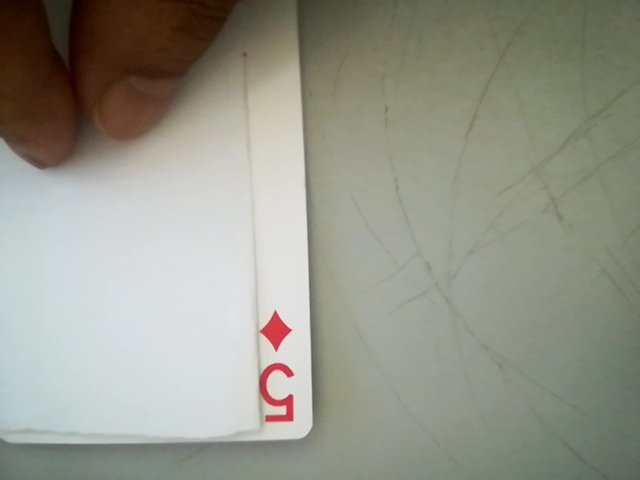fk 5: (244, 304, 311, 436)
